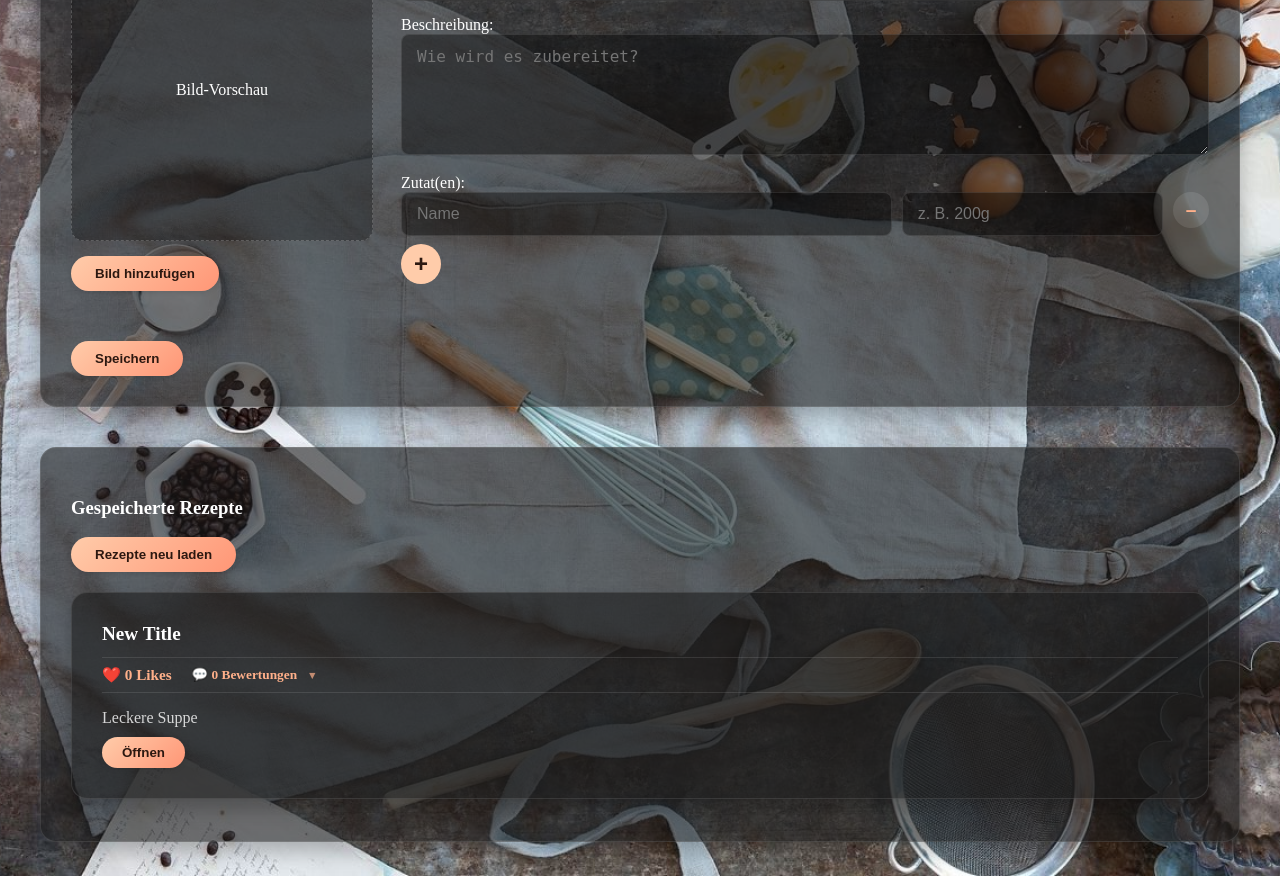
Test case: RezepteHinzufuegenView › should expand a recipe and show edit actions
(page scrolled)
expect the text "Ändern" is not shown: met
Click the button "Öffnen". click: (144, 753)
box: left=102, top=737, right=185, bottom=768
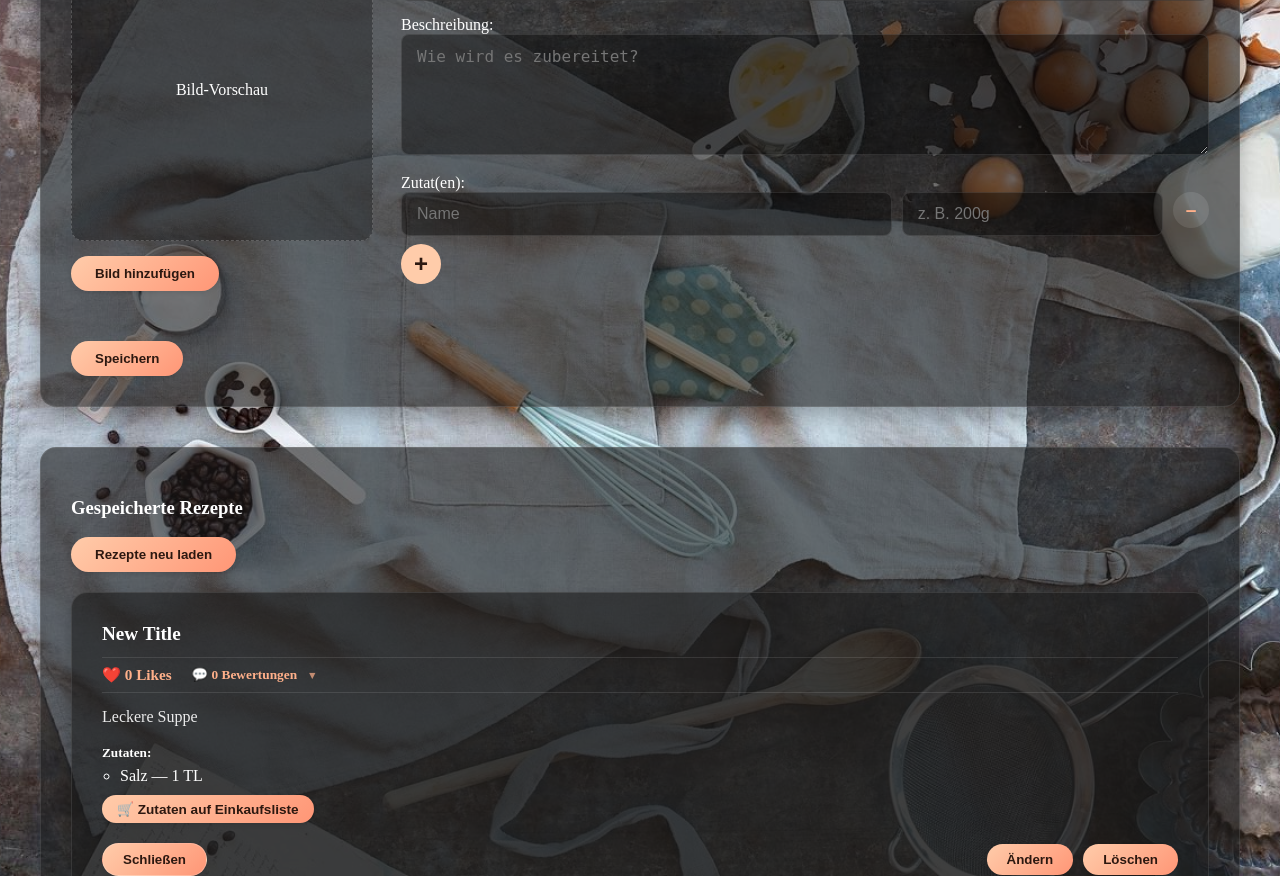
expect the text "Ändern" is shown: met, box left=986, top=844, right=1073, bottom=875
